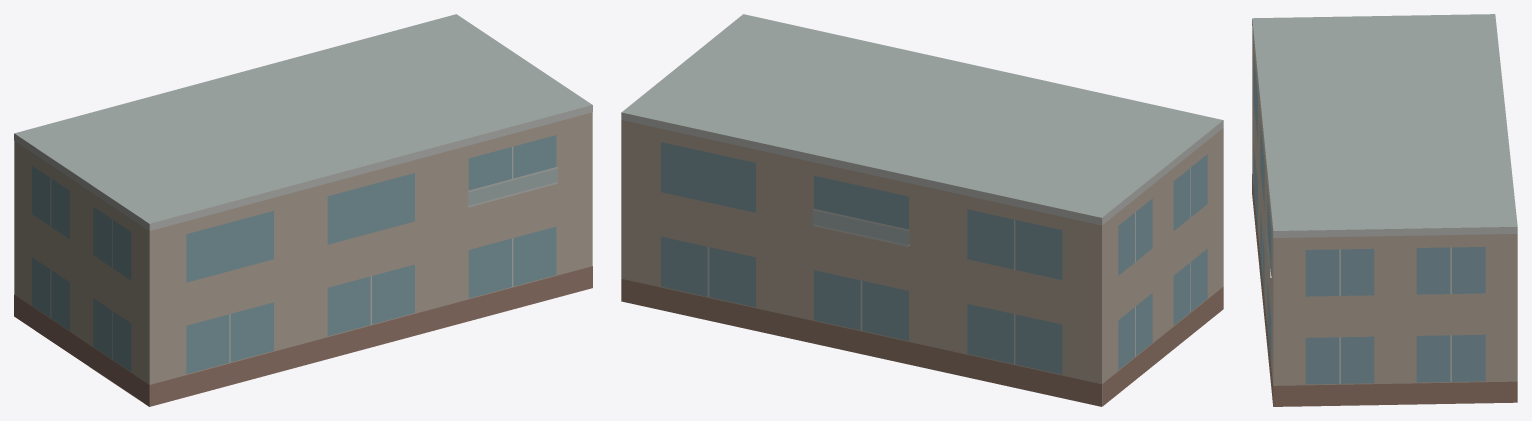
Rendered from survey-upis-33005108.glb.
3 views of the same model, side by side, from view 1: azimuth 30°, elevation 25°; view 2: azimuth 150°, elevation 25°; view 3: azimuth 270°, elevation 25° (orthographic). The views are drawn at different scales.
Parts seen in each view (by area): view 1: survey-upis-33005108.tmp; view 2: survey-upis-33005108.tmp; view 3: survey-upis-33005108.tmp.
Boxes of the visible parts, box(x1,y1,x2,y2) form: survey-upis-33005108.tmp: box(14, 14, 592, 406); survey-upis-33005108.tmp: box(621, 14, 1223, 406); survey-upis-33005108.tmp: box(1252, 14, 1517, 406).
Size of the model in its own units: 16.16 by 6.1 by 8.36.
